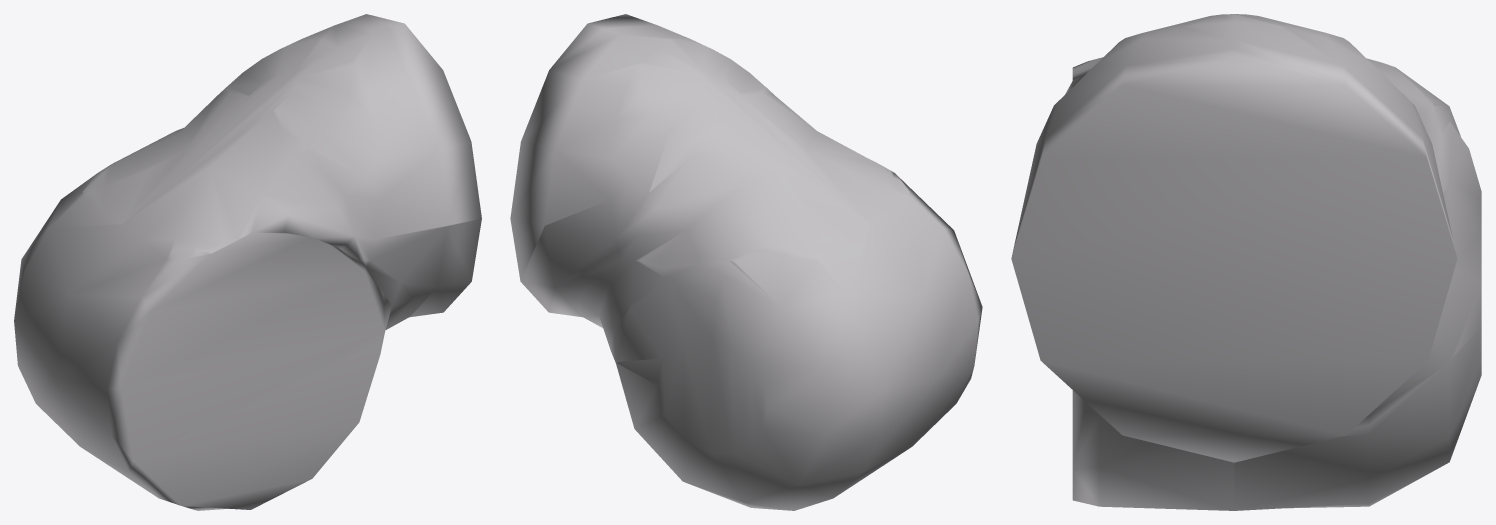
Rendered from Right_Elbow.dae.
3 views of the same model, side by side, from view 1: azimuth 30°, elevation 25°; view 2: azimuth 150°, elevation 25°; view 3: azimuth 270°, elevation 25° (orthographic). The views are drawn at different scales.
Visible parts, largest first — view 1: Mesh; view 2: Mesh; view 3: Mesh.
Boxes of the visible parts, x1=… form: Mesh: x1=14, y1=14, x2=481, y2=510; Mesh: x1=510, y1=14, x2=982, y2=510; Mesh: x1=1011, y1=14, x2=1481, y2=510.
Bounding box in the file's own units: 0.1654 × 0.1822 × 0.1329.
Materials: 1 (1 with a texture image).
